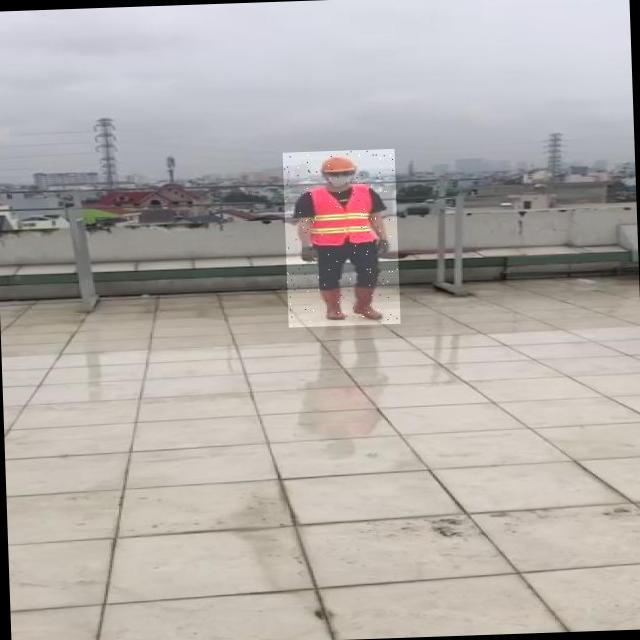Gloves: (295, 247, 322, 263), (382, 244, 389, 258)
Helmet: (316, 154, 357, 175)
Human: (282, 148, 400, 327)
Safety Boot: (349, 284, 384, 318), (314, 286, 345, 321)
Safety Vest: (310, 186, 376, 245)
